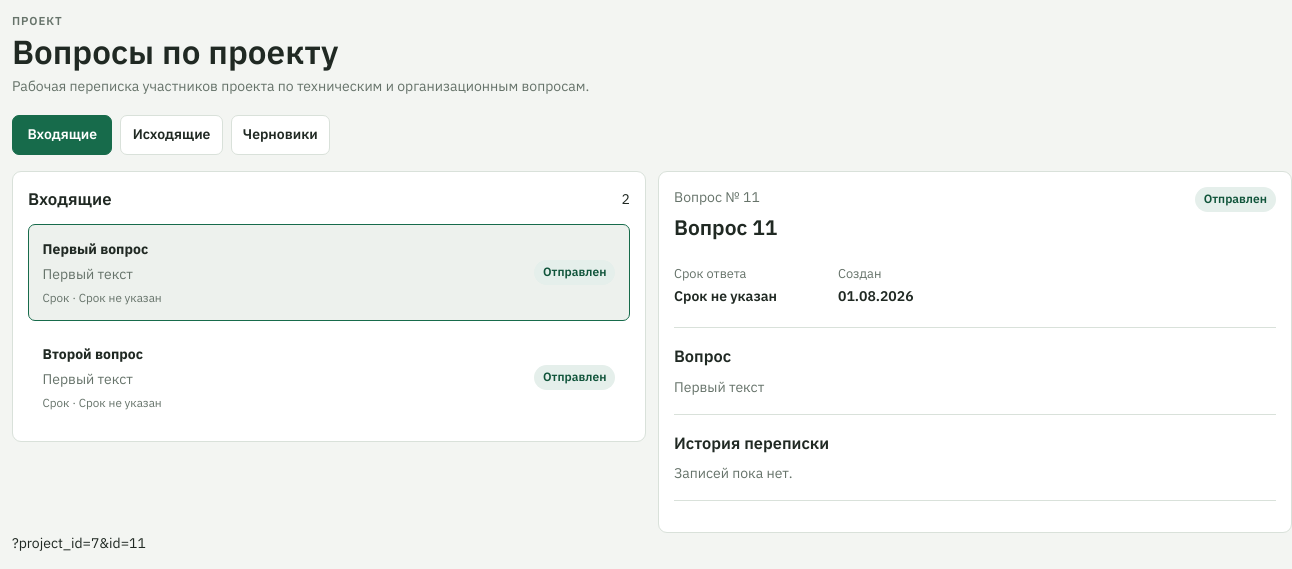
RfiPage deep links › updates the id query parameter when the user selects a list item
Click the button "Второй вопрос Первый текст Срок · Срок не указан Отправлен".
click(93, 354)  # box [28,329,630,426]
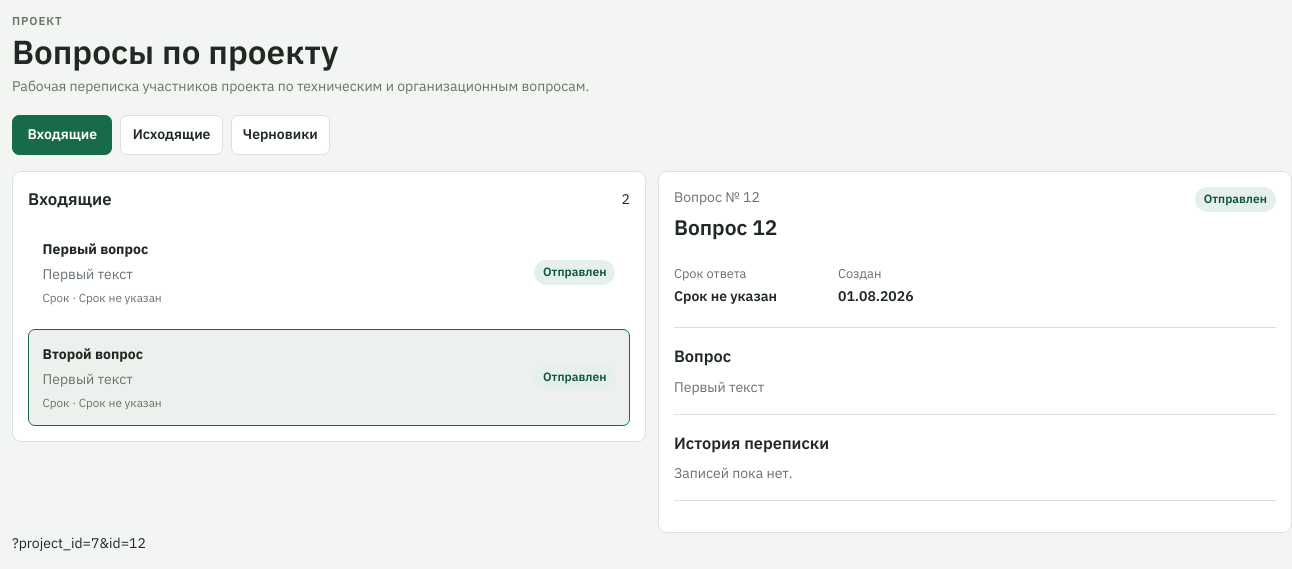
expect the text with test id "location-search" shows "id=12": met, box [12,534,146,552]
